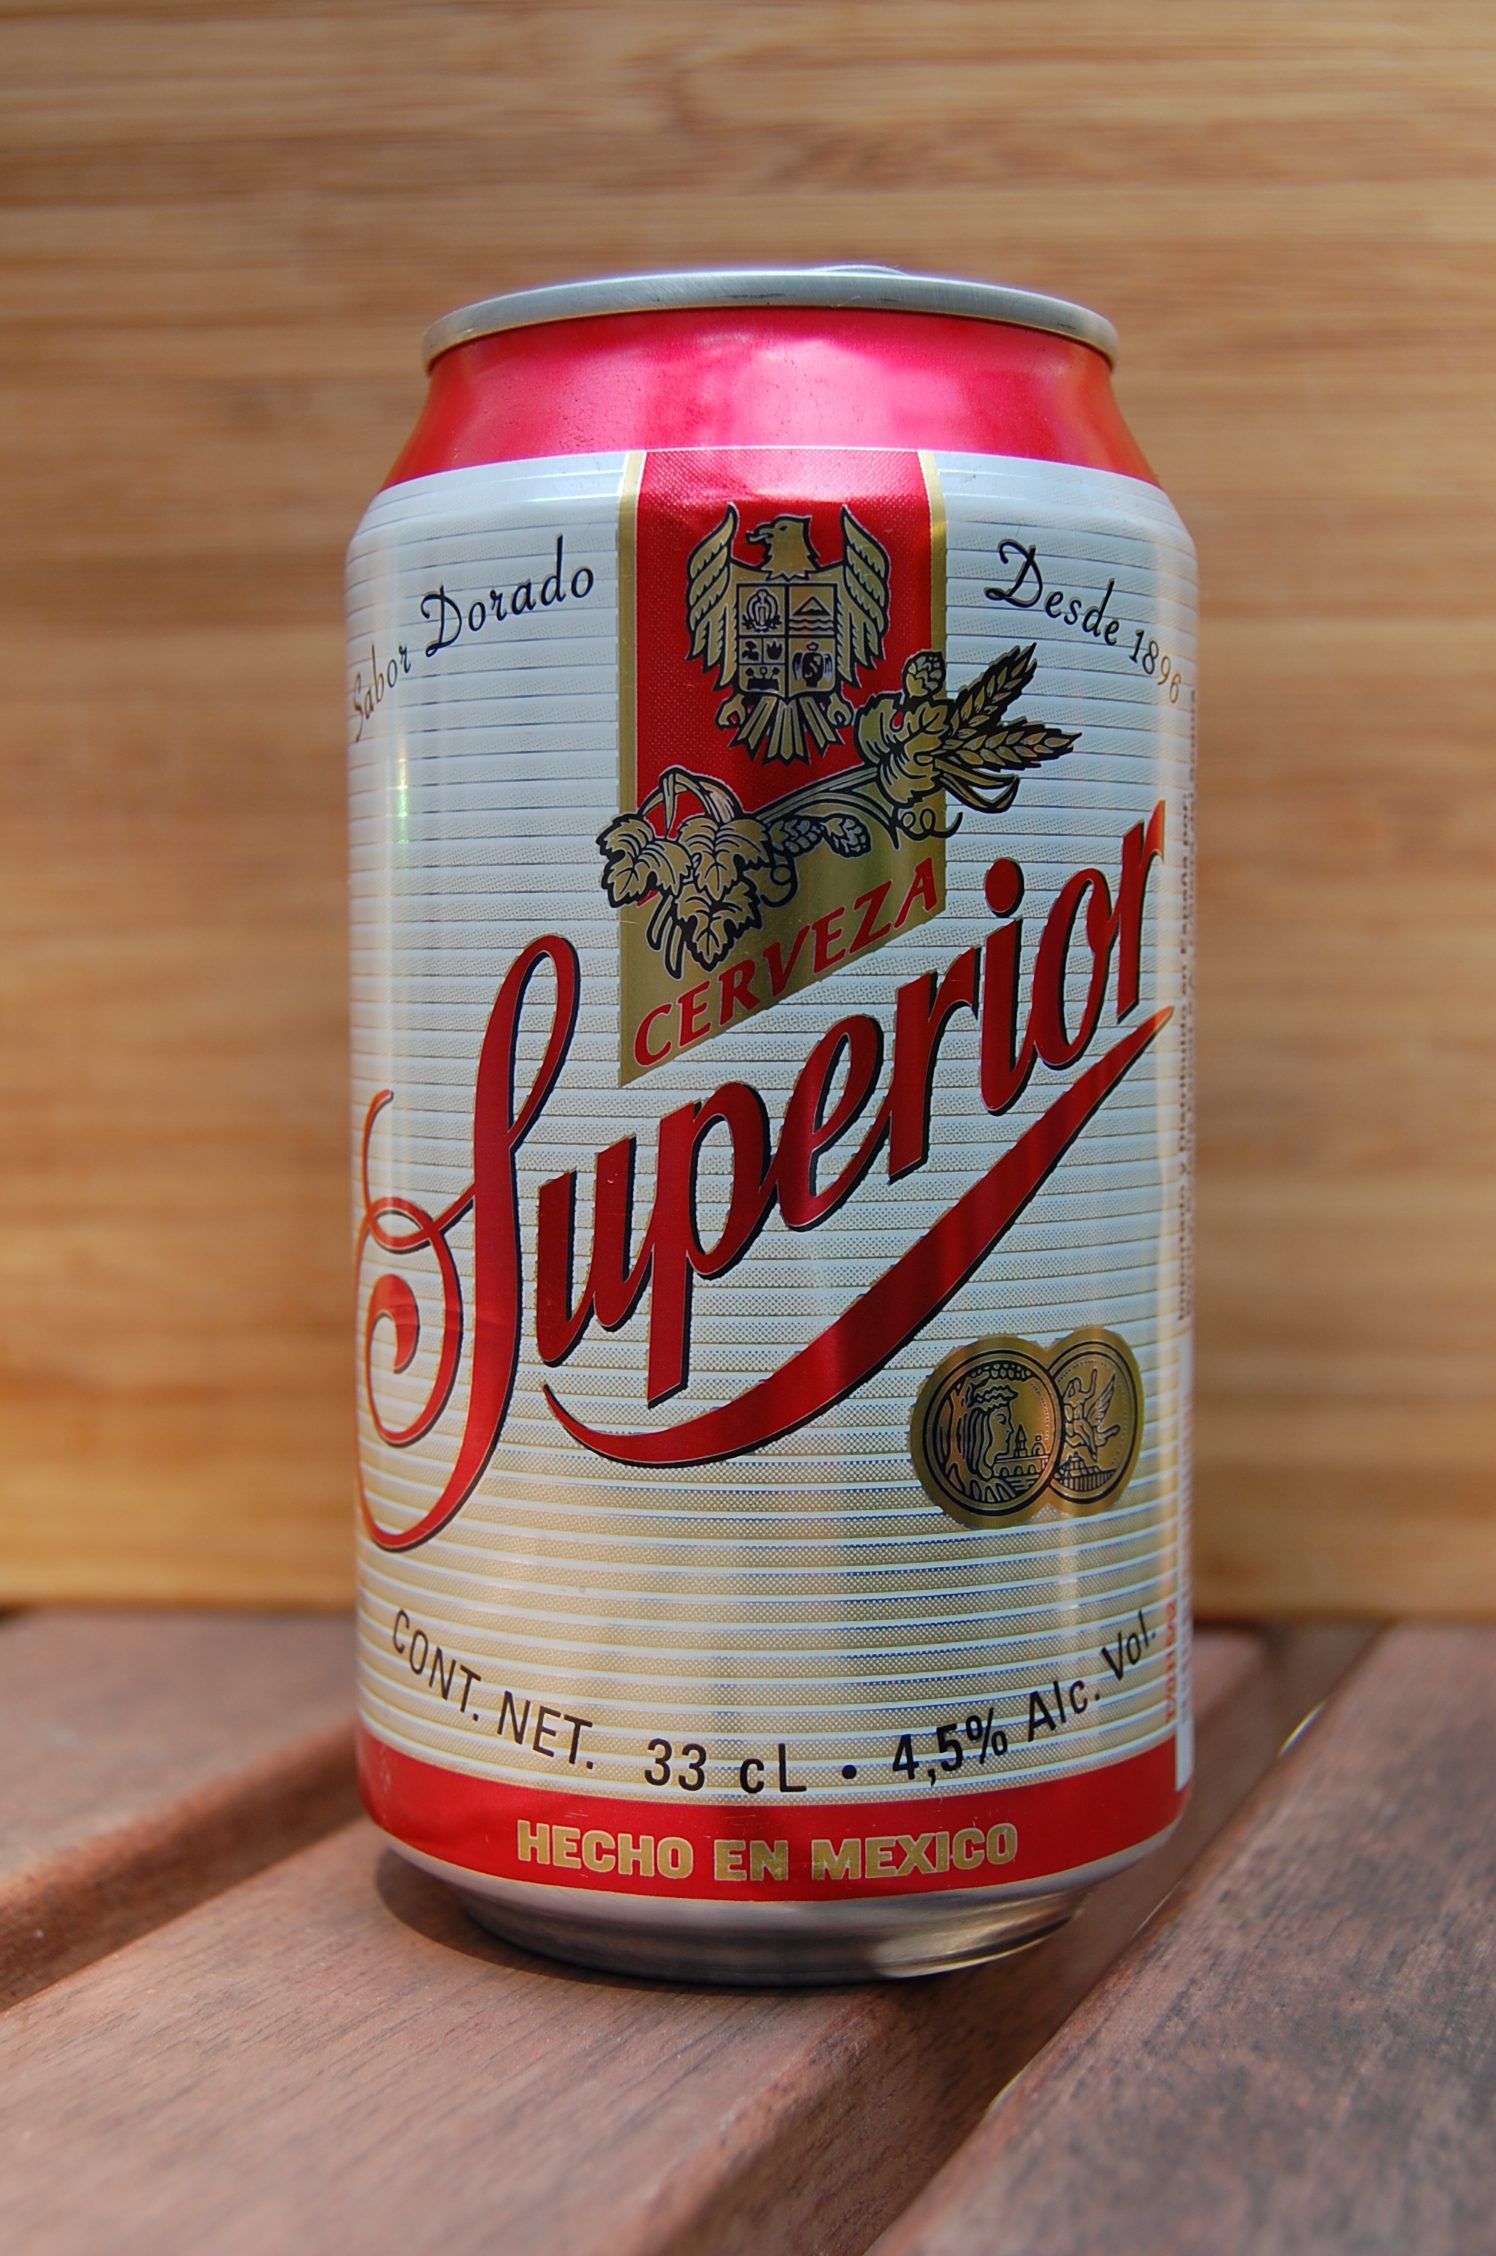beer can: (324, 271, 1209, 2002)
